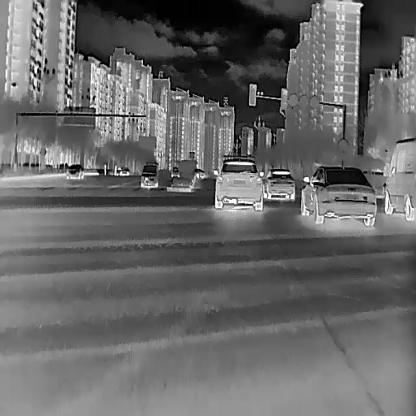car: (298, 163, 377, 225), (382, 133, 414, 221), (212, 156, 264, 209), (262, 166, 295, 200), (139, 163, 158, 187), (65, 163, 83, 179), (115, 164, 130, 176), (191, 166, 205, 178), (170, 166, 178, 176)
